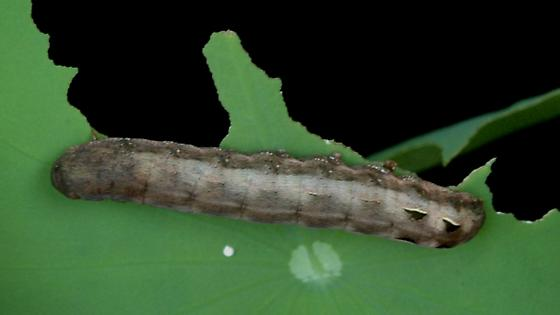Armyworm: (38, 133, 501, 262)
